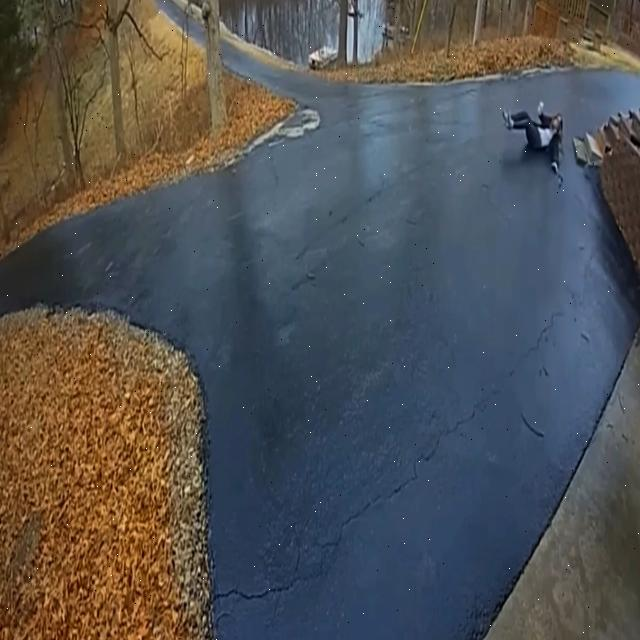fallen: (503, 102, 563, 173)
